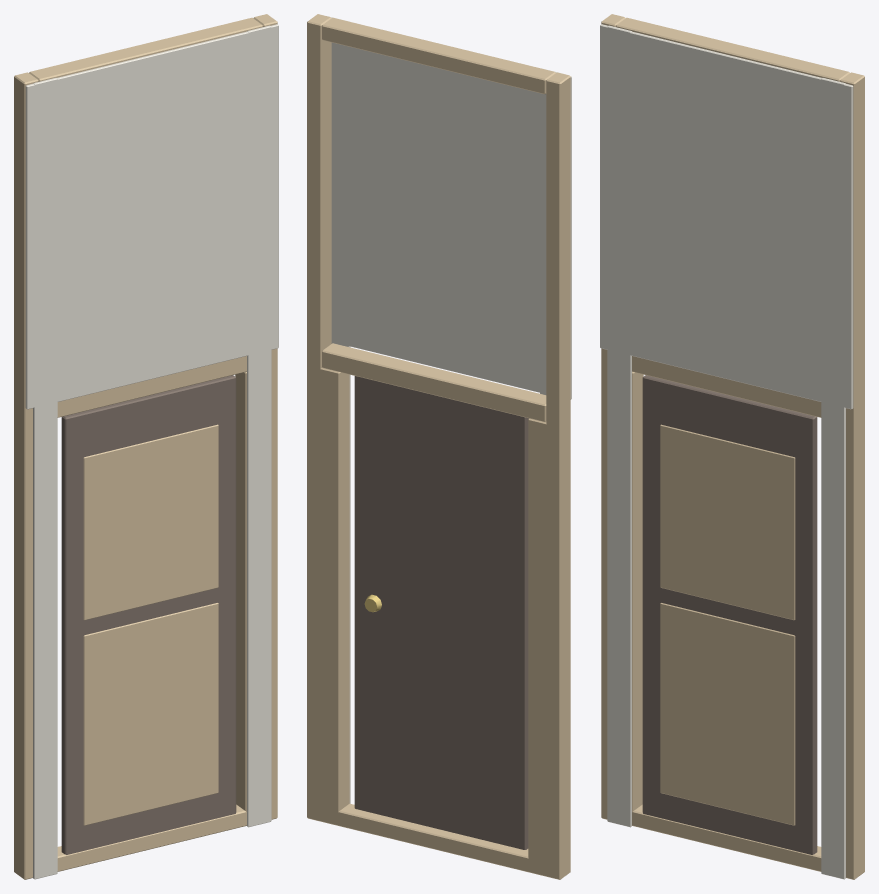
The model's file is theatre-stage-and-backstage-door-flat-1964e852__35886.glb.
3 renders of one model, left to right at view 1: azimuth 30°, elevation 25°; view 2: azimuth 150°, elevation 25°; view 3: azimuth 330°, elevation 25°, orthographic.
Parts seen in each view (by area): view 1: door-flat, door-1/ply, door-1; view 2: door-flat, door-1; view 3: door-flat, door-1/ply, door-1.
Boxes of the visible parts, x1,y1,x2,y2 form: door-flat: (14, 14, 278, 879); door-1/ply: (83, 424, 218, 825); door-1: (61, 375, 236, 854); door-flat: (307, 14, 571, 879); door-1: (354, 376, 528, 849); door-flat: (600, 14, 864, 879); door-1/ply: (660, 424, 795, 825); door-1: (642, 375, 817, 854).
Size of the model in its own units: 1.2 by 3.6 by 0.1041.
